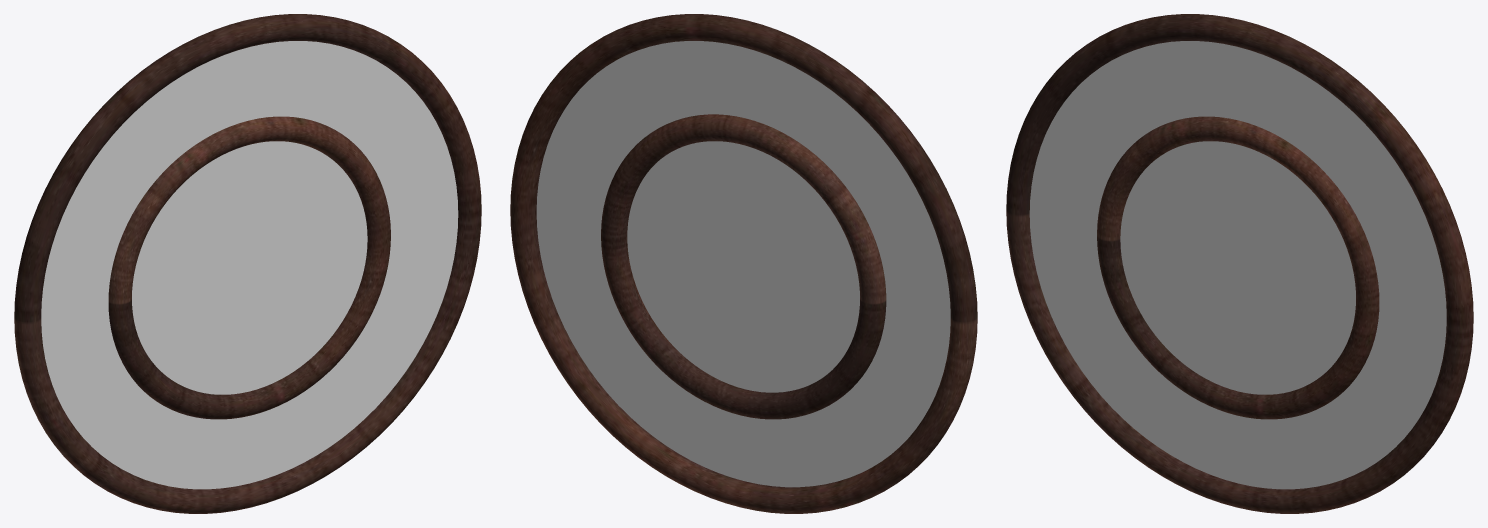
The model's file is Guong7_2.glb.
The picture shows the model from 3 angles, left to right: view 1: azimuth 30°, elevation 25°; view 2: azimuth 150°, elevation 25°; view 3: azimuth 330°, elevation 25°; orthographic projection.
Parts seen in each view (by area): view 1: Circle, Torus, Torus.002; view 2: Circle, Torus, Torus.002; view 3: Circle, Torus, Torus.002.
Part boxes in pixels (x1,y1,x2,y2): Circle: [41, 41, 458, 489]; Torus: [14, 14, 481, 513]; Torus.002: [108, 116, 390, 419]; Circle: [536, 41, 950, 487]; Torus: [510, 14, 977, 513]; Torus.002: [601, 114, 886, 419]; Circle: [1029, 41, 1446, 489]; Torus: [1006, 14, 1473, 513]; Torus.002: [1097, 116, 1379, 419].
Bounding box in the file's own units: 1.07 × 1.07 × 0.054.
2 materials, 1 textured.
